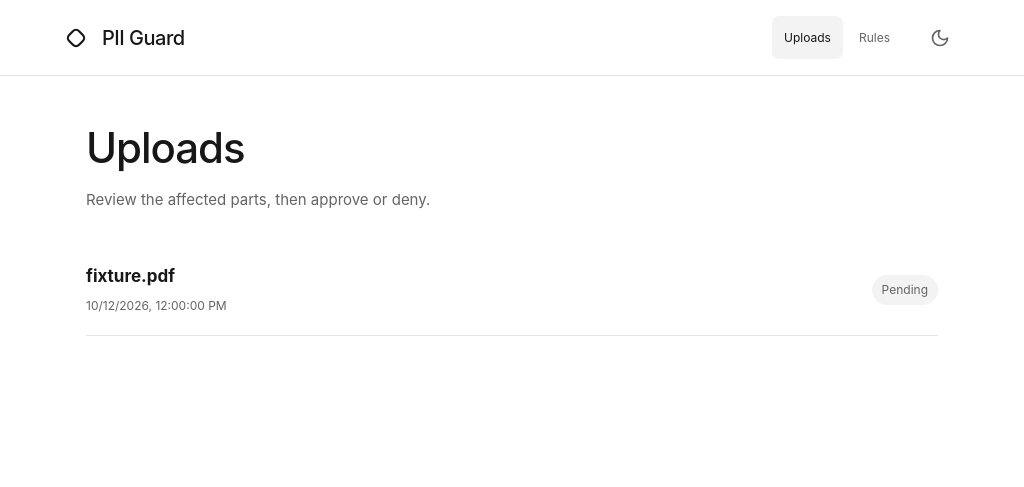
it: opens affected parts and binds approval to the current revision/hash
Click the button "fixture.pdf 10/12/2026, 12:00:00 PM Pending".
click(130, 276)  # box [86,244,938,336]
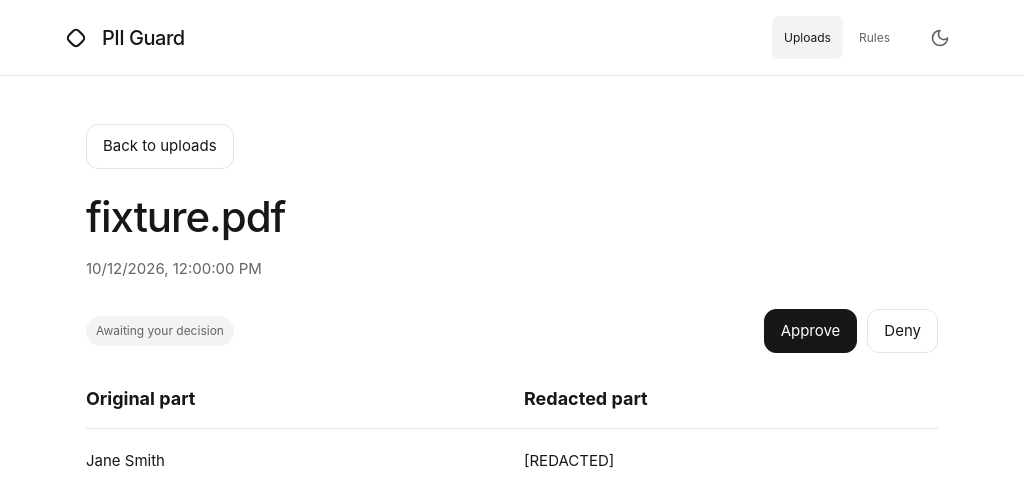
Now the text "Jane Smith" is shown, box [86,451,165,470]
Now the text "[REDACTED]" is shown, box [524,451,614,470]
Click the button "Approve".
click(810, 331)  # box [764,309,857,353]
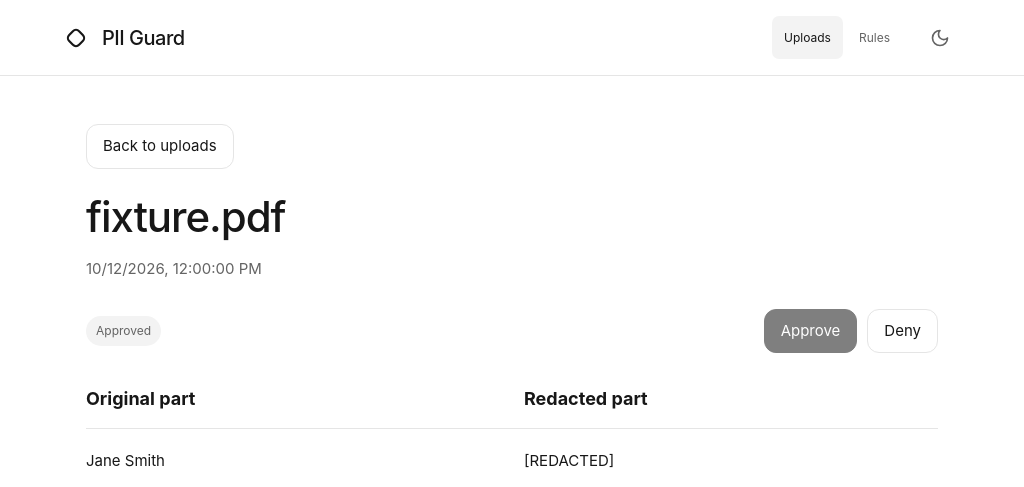
Now the text "Approved" is shown, box [86,316,161,346]
